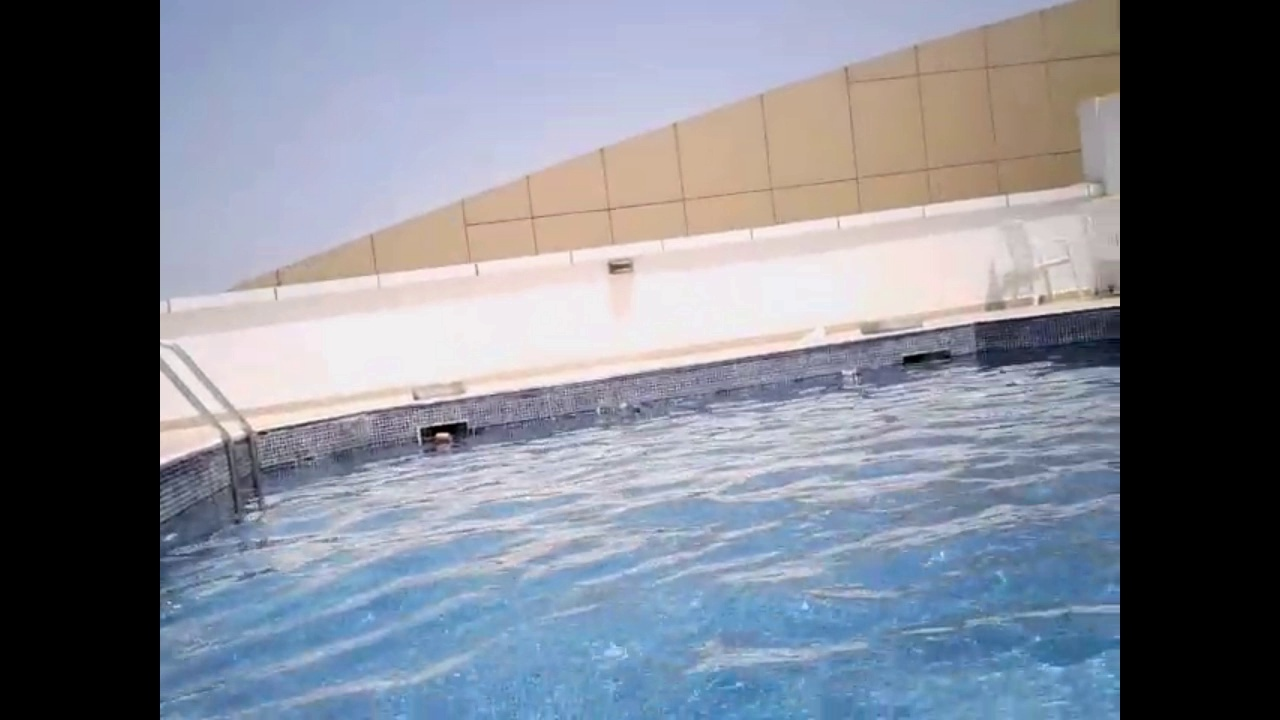debris: (427, 428, 458, 447), (835, 364, 861, 382), (790, 375, 806, 387), (629, 405, 643, 416)
